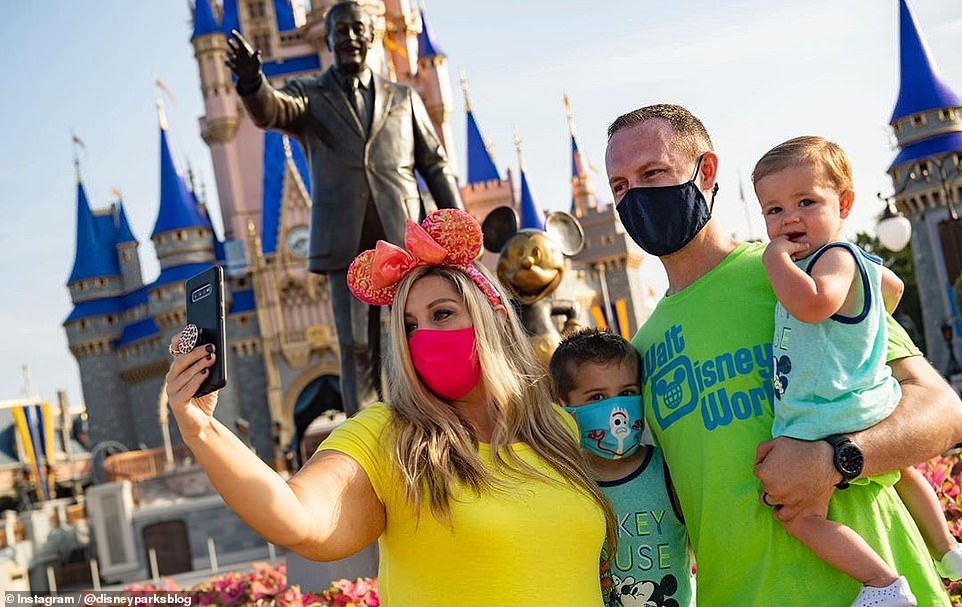with_mask: (608, 159, 712, 247), (403, 294, 480, 396), (568, 375, 643, 450)
without_mask: (759, 188, 832, 248)
